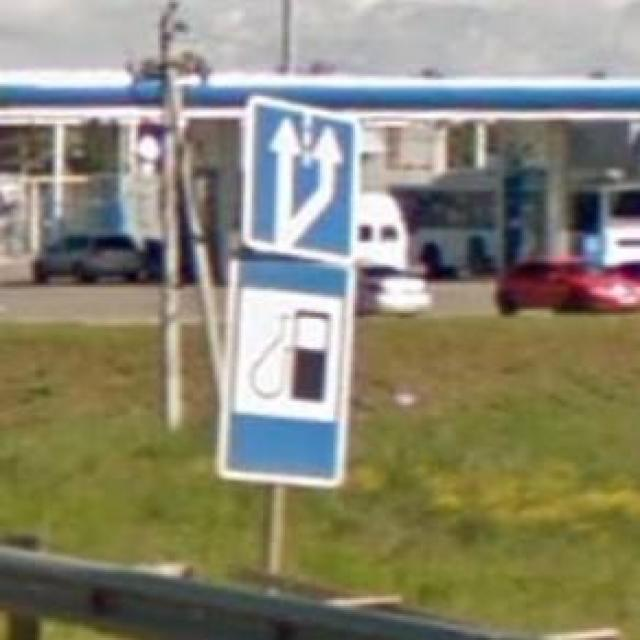traffic_sign: (217, 230, 359, 490)
